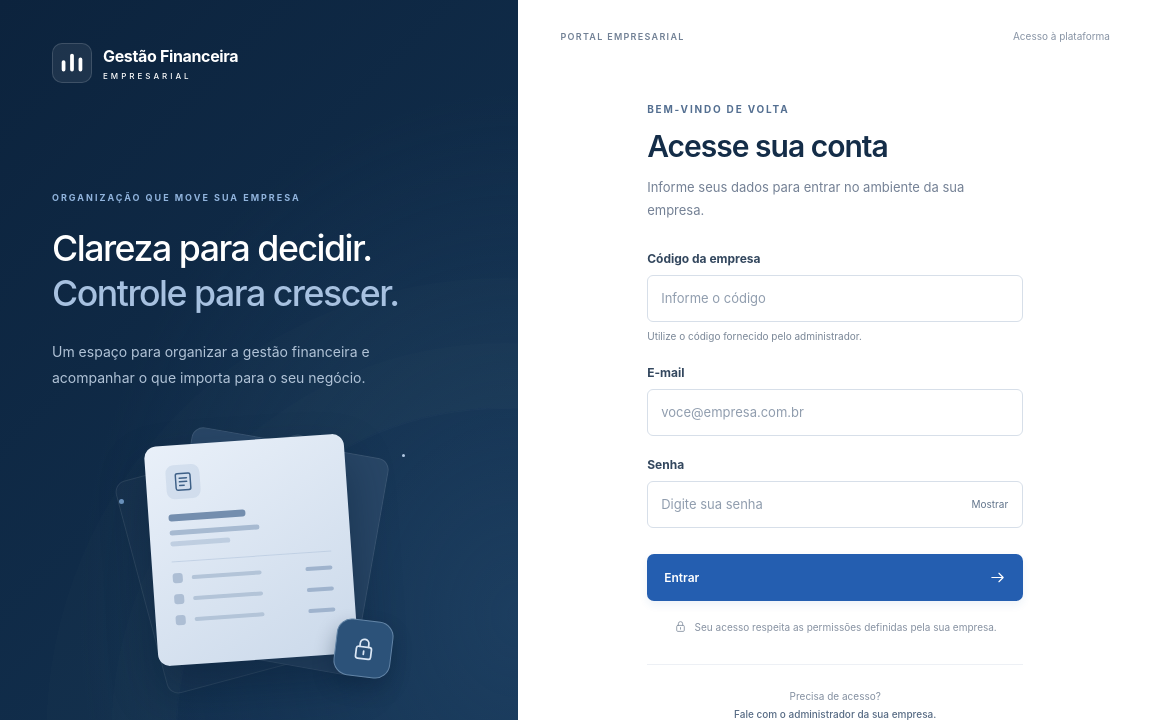
Test: Acesso empresarial › rejeita código de empresa inválido 0
Type "0" into the field labelled "Código da empresa" at (835, 298), box x1=647 y1=275 x2=1023 y2=322
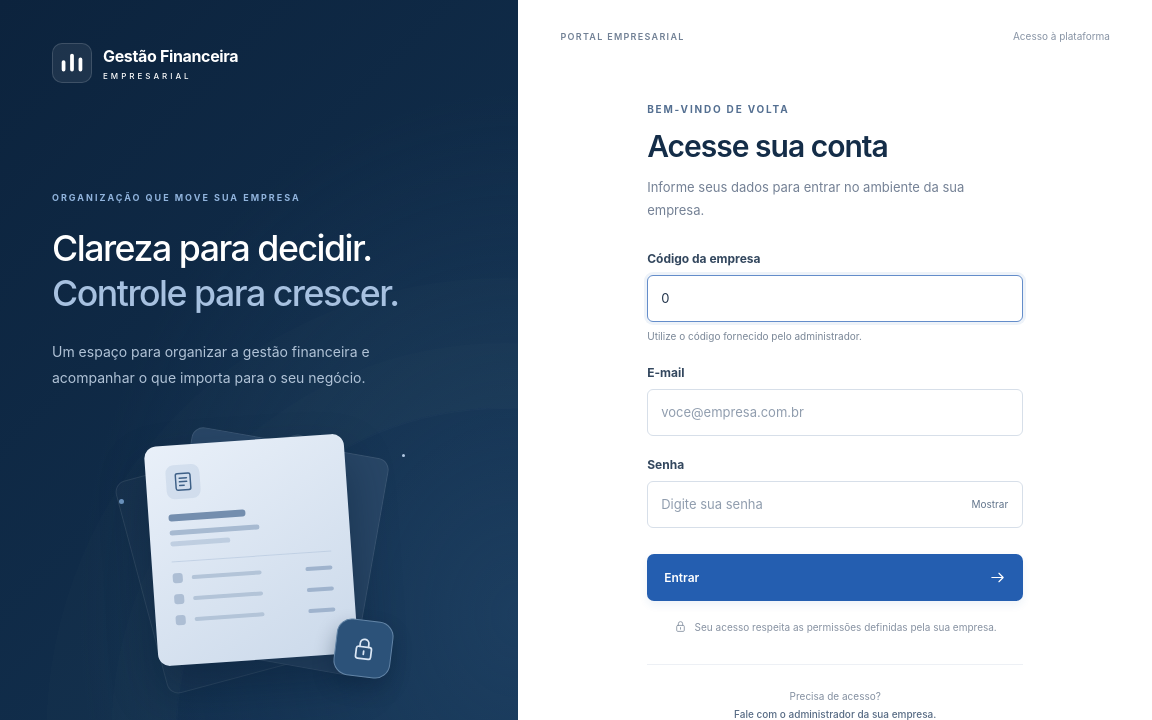
Click the button "Entrar" at (682, 577), box x1=647 y1=554 x2=1023 y2=601
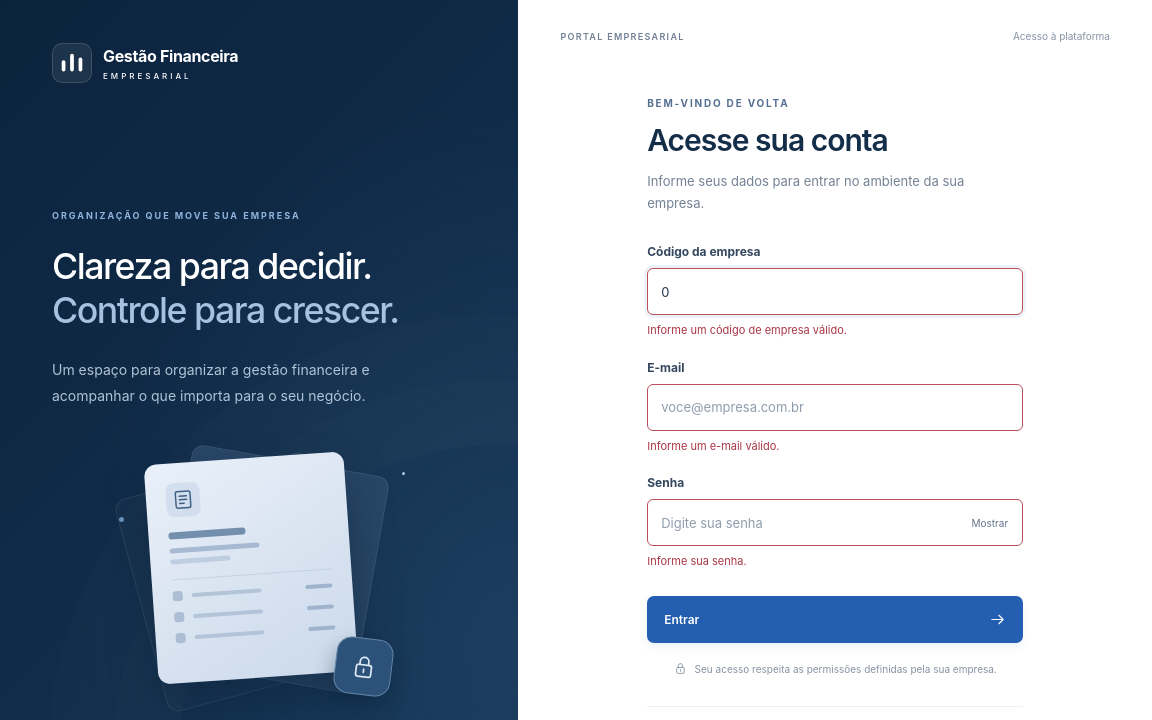
expect the text "Informe um código de empresa válido." is shown: met, box x1=647 y1=323 x2=847 y2=337
